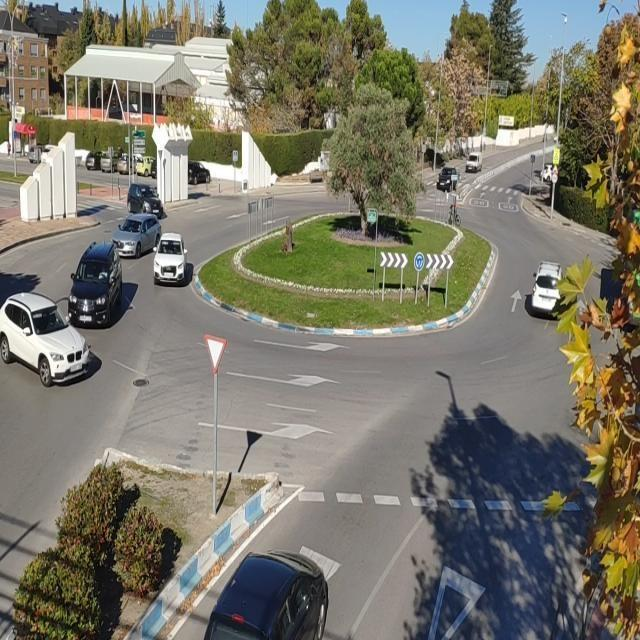Car: (202, 548, 330, 640), (0, 292, 95, 386), (68, 240, 123, 329), (110, 213, 161, 259), (152, 233, 189, 285), (532, 262, 562, 317), (128, 182, 164, 218), (436, 168, 458, 193)
Cycle: (446, 206, 462, 226)
Van: (465, 152, 482, 173)
